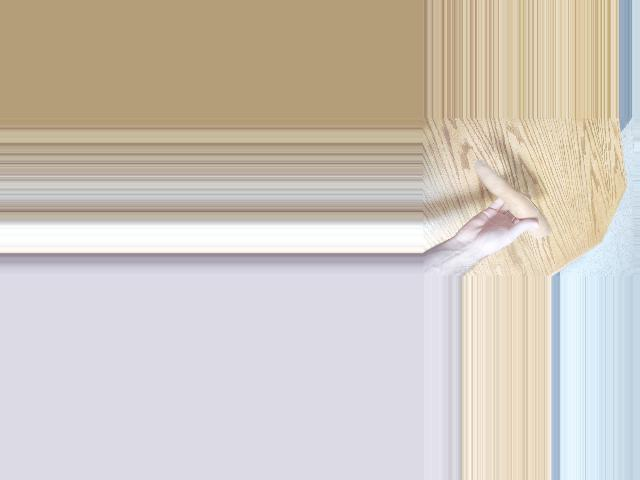sweet_potato: (475, 162, 548, 239)
